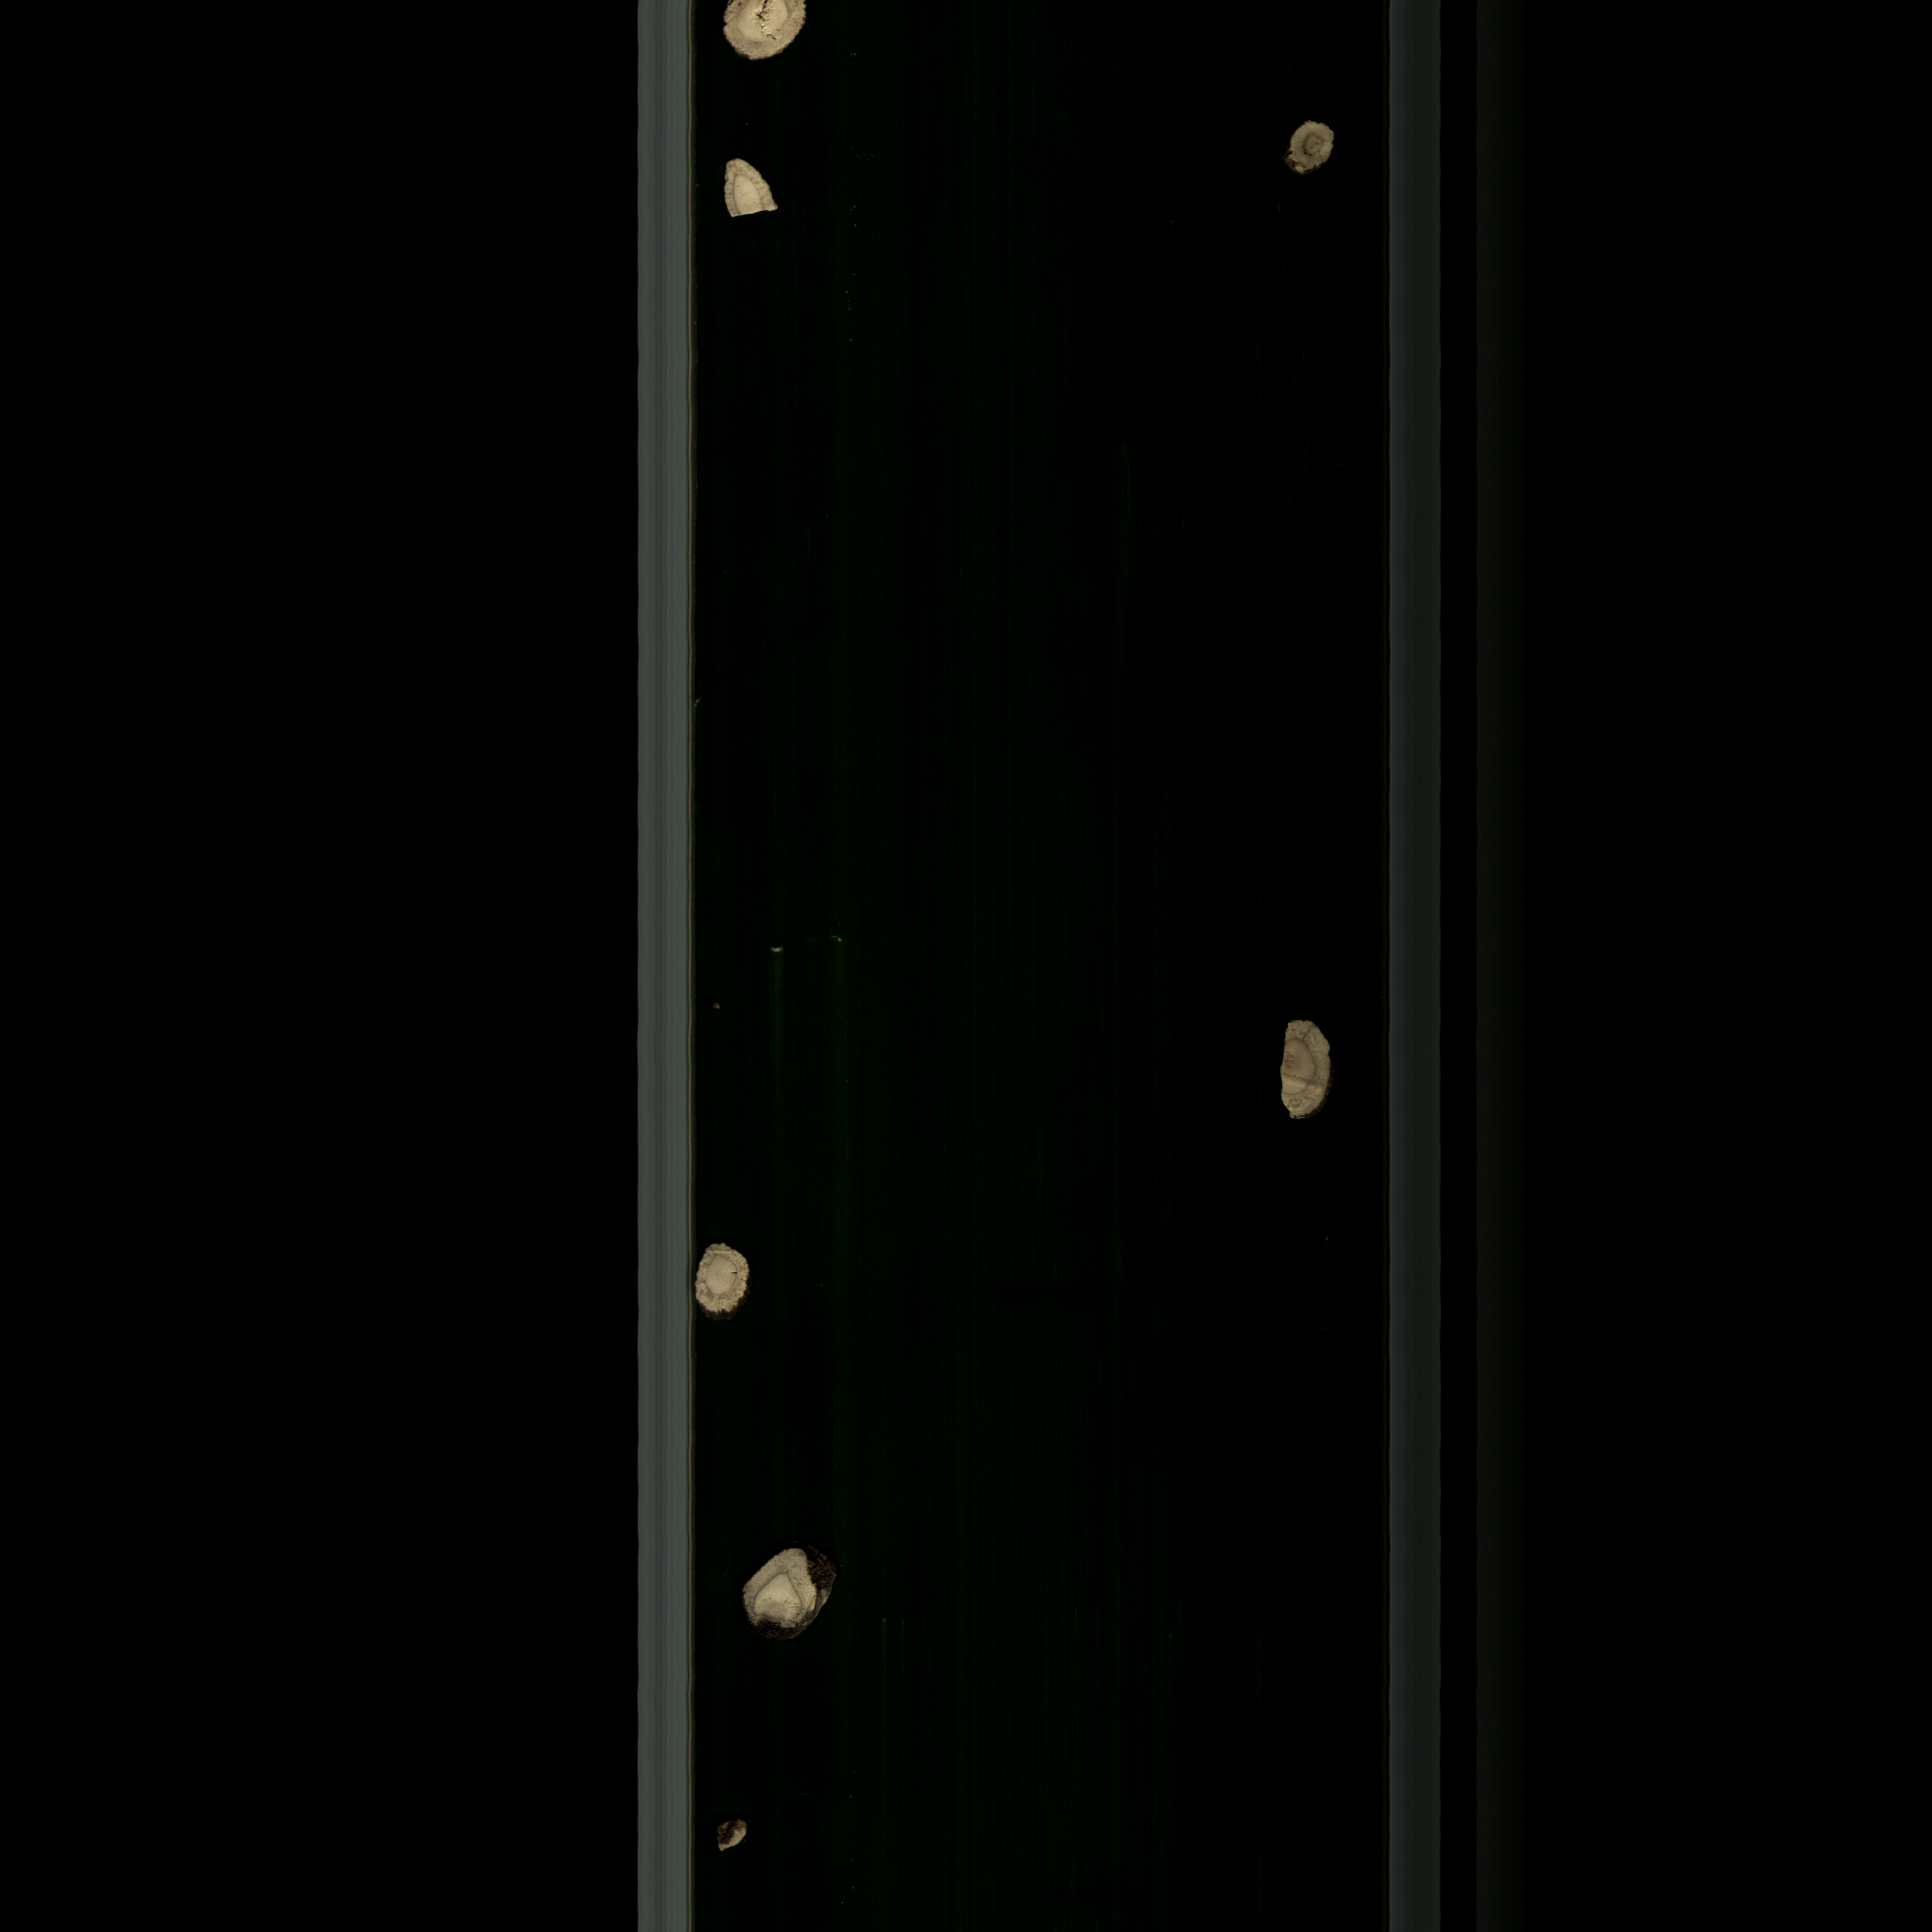bark: (713, 1805, 770, 1863)
hole: (701, 0, 826, 67)
moldy: (725, 1537, 863, 1651), (1274, 1010, 1346, 1131), (711, 149, 789, 228), (1277, 115, 1345, 182)
